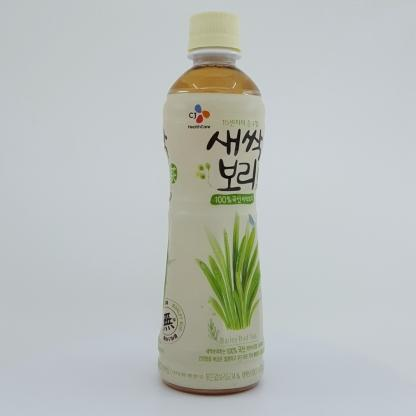CJ-----410ML: (158, 11, 266, 396)
